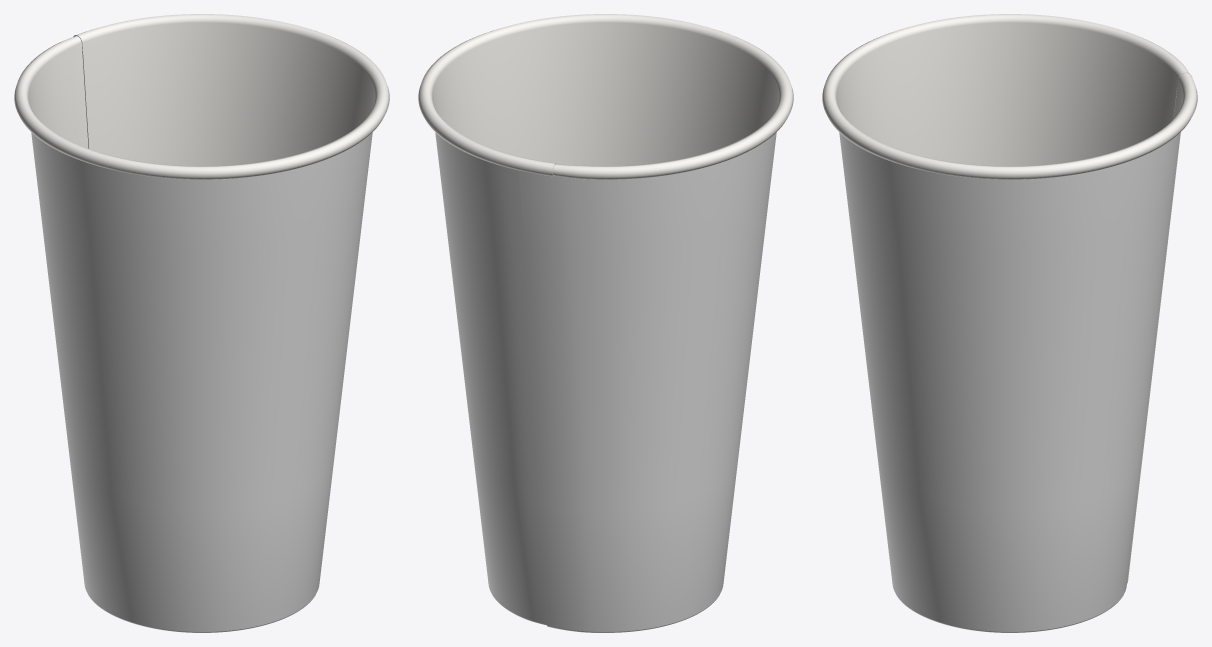
3 views of the same model, side by side, from view 1: azimuth 30°, elevation 25°; view 2: azimuth 150°, elevation 25°; view 3: azimuth 270°, elevation 25° (orthographic).
Parts seen in each view (by area): view 1: Cup_Wall; view 2: Cup_Wall; view 3: Cup_Wall.
Boxes of the visible parts, <box> form: Cup_Wall: <box>14,14,389,632</box>; Cup_Wall: <box>418,14,793,632</box>; Cup_Wall: <box>822,14,1197,632</box>.
Bounding box in the file's own units: 0.08 × 0.1161 × 0.08.
Materials: 3 (1 with a texture image).
